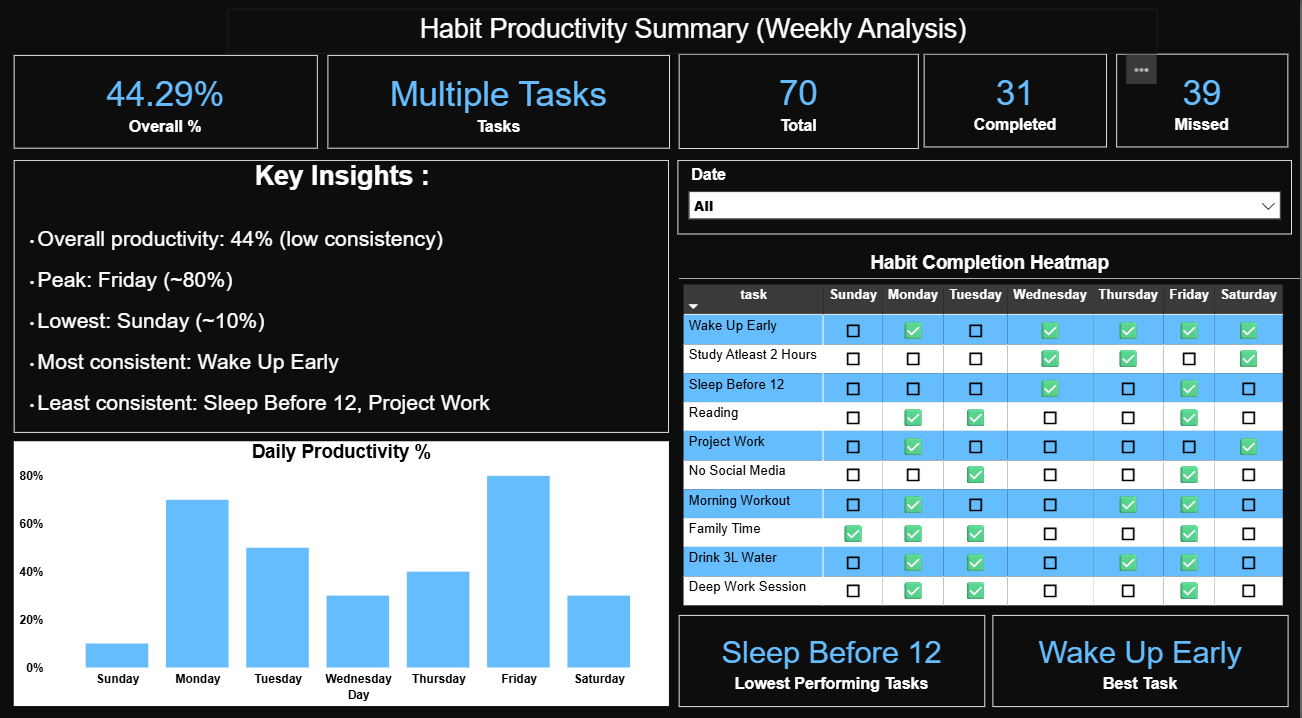

The dashboard page shown, as its layout file describes it:
{"tool":"powerbi","page":{"name":"Page 1","canvas":[1300,720],"ordinal":0},"visuals":[{"type":"card","fields":{"Values":["productivity_data.Overall %"]},"box":[14.1,55.1,303.8,93.6],"z":0},{"type":"clusteredColumnChart","title":"Daily Productivity %","fields":{"Category":["productivity_data.day"],"Y":["Avg(productivity_data.t_status)"]},"box":[13.5,441.7,655.2,265],"z":1000},{"type":"pivotTable","title":"Habit Completion Heatmap","fields":{"Rows":["productivity_data.task"],"Columns":["productivity_data.day"],"Values":["Min(productivity_data.Checkbox)"]},"box":[678.2,252.6,621.8,360.3],"z":2000},{"type":"slicer","fields":{"Values":["productivity_data.t_date"]},"box":[676.9,160.3,614.1,74.4],"z":3000},{"type":"card","fields":{"Values":["productivity_data.Missed"]},"box":[1113.8,53.8,175,93.8],"z":4000},{"type":"card","fields":{"Values":["productivity_data.Completed"]},"box":[924.4,53.8,183.3,93.6],"z":5000},{"type":"card","fields":{"Values":["productivity_data.Total"]},"box":[678.2,53.8,239.7,94.9],"z":6000},{"type":"card","fields":{"Values":["Min(productivity_data.Worst Task)"]},"box":[678.2,615.4,306.4,92.3],"z":7000},{"type":"card","fields":{"Values":["productivity_data.Best Task"]},"box":[992.3,615.4,296.2,92.3],"z":8000},{"type":"textbox","title":"Key Insights :","box":[14.1,160.3,655.1,273.1],"z":9000},{"type":"card","fields":{"Values":["productivity_data.Tasks"]},"box":[326.9,55.1,342.3,93.6],"z":10000},{"type":"textbox","box":[226.9,9,930.8,44.9],"z":11000}]}

Visuals, with their boxes in screenshot pixels (x1, y1, x2, y2), scaled from the page's 1300x720 canvas onto the 1302x718 screenshot:
card - productivity_data.Overall %: [left=14, top=55, right=318, bottom=148]
"Daily Productivity %" clusteredColumnChart: [left=14, top=440, right=670, bottom=705]
"Habit Completion Heatmap" pivotTable: [left=679, top=252, right=1301, bottom=611]
slicer - productivity_data.t_date: [left=678, top=160, right=1293, bottom=234]
card - productivity_data.Missed: [left=1116, top=54, right=1291, bottom=147]
card - productivity_data.Completed: [left=926, top=54, right=1109, bottom=147]
card - productivity_data.Total: [left=679, top=54, right=919, bottom=148]
card - Min(productivity_data.Worst Task): [left=679, top=614, right=986, bottom=706]
card - productivity_data.Best Task: [left=994, top=614, right=1290, bottom=706]
"Key Insights :" textbox: [left=14, top=160, right=670, bottom=432]
card - productivity_data.Tasks: [left=327, top=55, right=670, bottom=148]
textbox: [left=227, top=9, right=1159, bottom=54]
